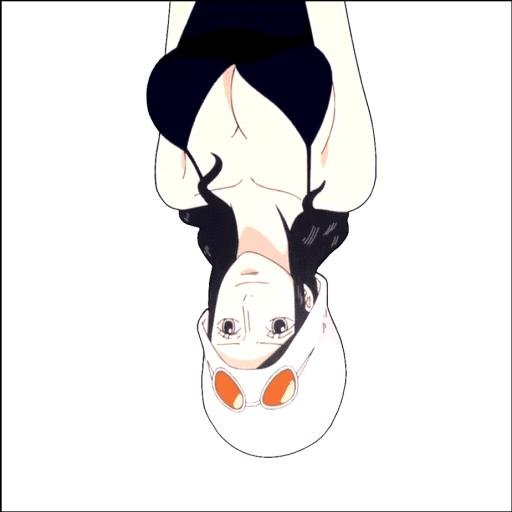NicoRobin: (146, 0, 376, 464)
